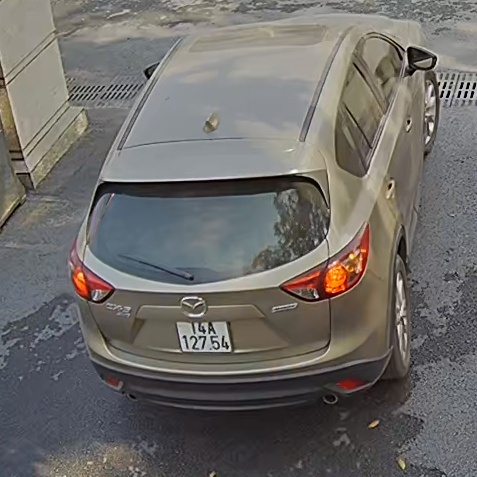vehicle plate: (170, 316, 236, 356)
